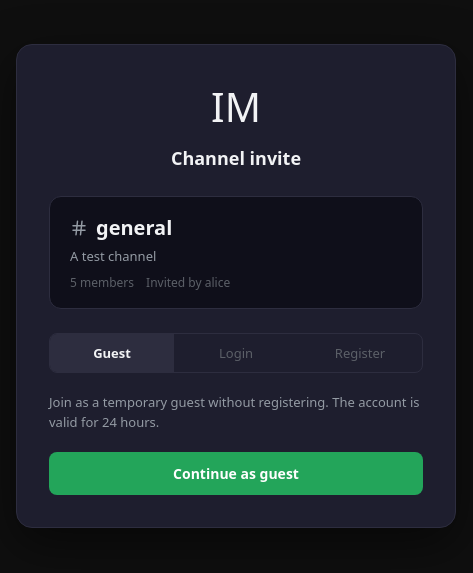
Test: InvitePage › guest join: shows error message when guest auth fails
This screenshot has width=473, height=573.
Click the button "Continue as guest" at (236, 474), box [49,452,423,495]
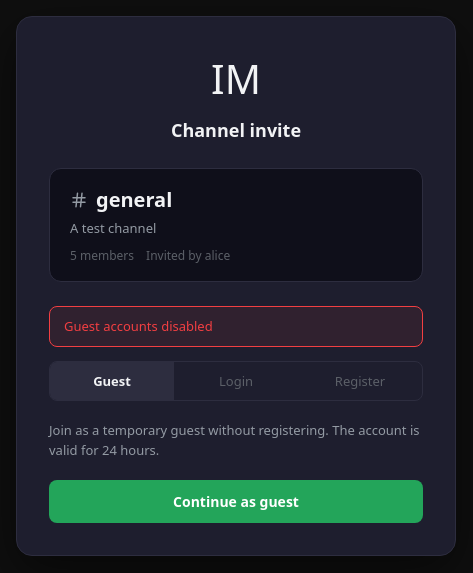
Expected: the text "Guest accounts disabled" is shown, [49,306,423,347]
